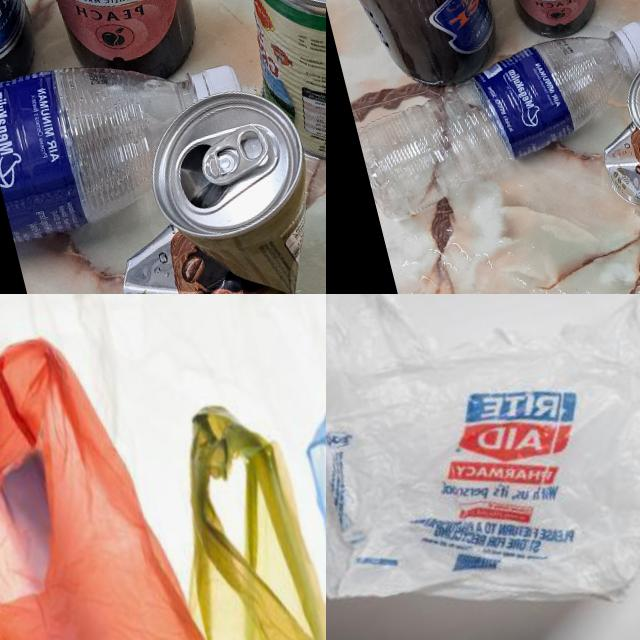aba de lata: (195, 122, 275, 190)
garrafa de vidro: (0, 0, 221, 100), (331, 0, 509, 103), (483, 0, 619, 45)
garrafa plástica: (347, 25, 640, 225), (0, 24, 261, 243)
lata: (83, 77, 326, 294), (213, 0, 326, 178), (582, 46, 640, 214)
sacola plástica: (326, 294, 640, 640), (0, 299, 279, 640), (155, 384, 326, 640), (0, 298, 89, 640)
tampa plástica: (188, 59, 238, 101), (619, 18, 640, 72)
